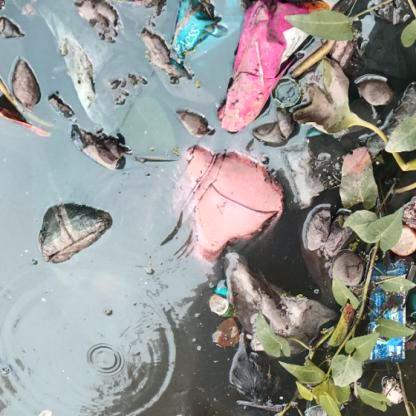Trash: (215, 0, 335, 135), (361, 248, 409, 377), (168, 1, 216, 66), (210, 277, 230, 317)
